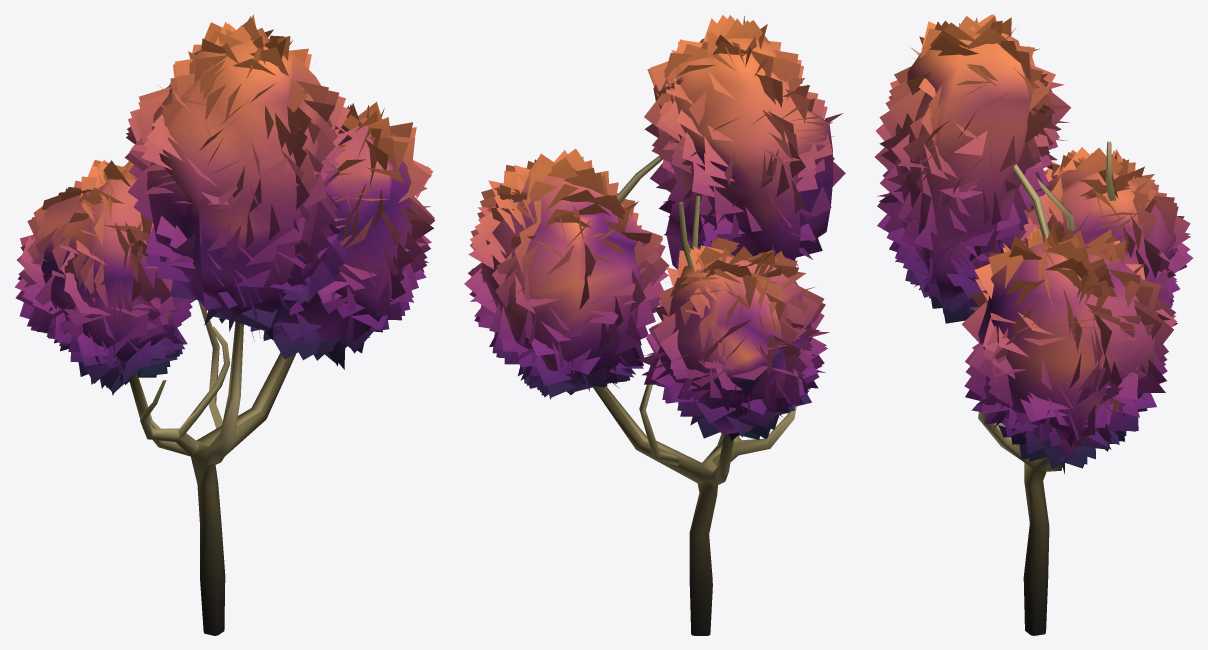
Rendered from Forest_Tree_1C.fbx.
3 renders of one model, left to right at view 1: azimuth 30°, elevation 25°; view 2: azimuth 150°, elevation 25°; view 3: azimuth 270°, elevation 25°, orthographic. The views are drawn at different scales.
Parts seen in each view (by area): view 1: Forest_Tree_1C; view 2: Forest_Tree_1C; view 3: Forest_Tree_1C.
Part boxes in pixels (left/top/right/bottom): Forest_Tree_1C: left=15, top=14, right=435, bottom=635; Forest_Tree_1C: left=464, top=15, right=845, bottom=635; Forest_Tree_1C: left=875, top=14, right=1193, bottom=635.
Bounding box in the file's own units: 405 × 649 × 307.
